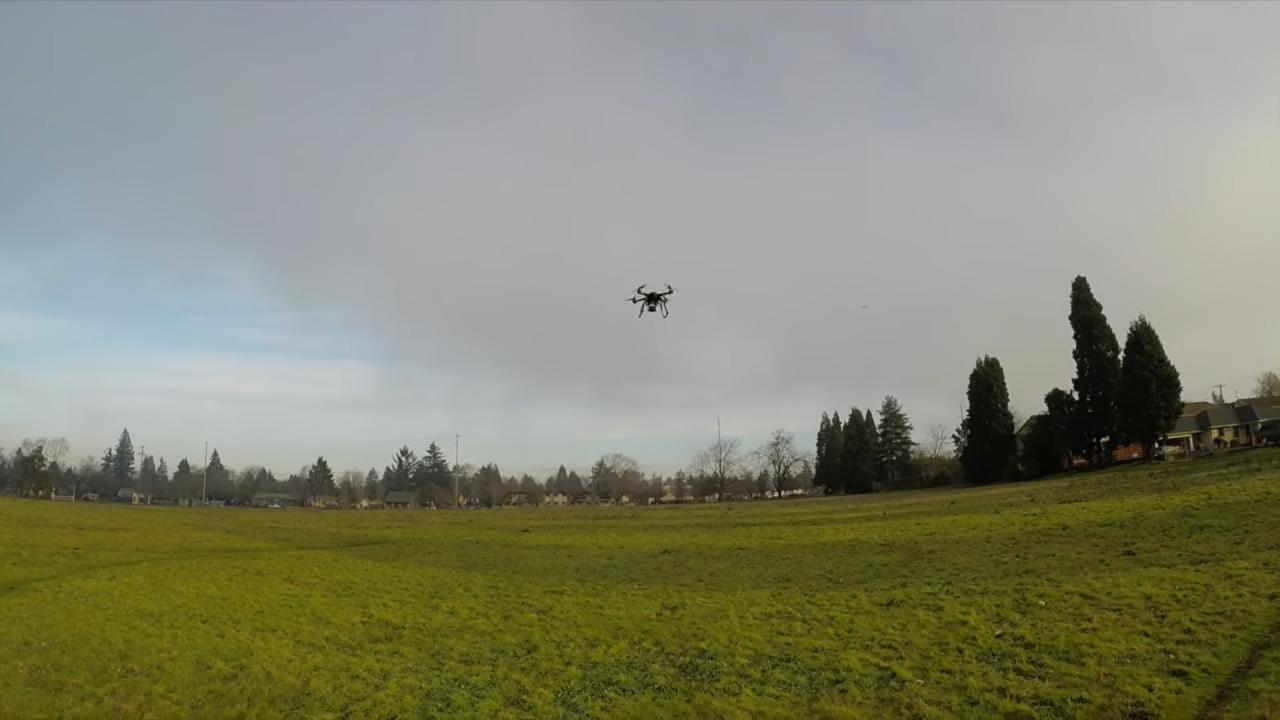Drone: (620, 277, 682, 326)
